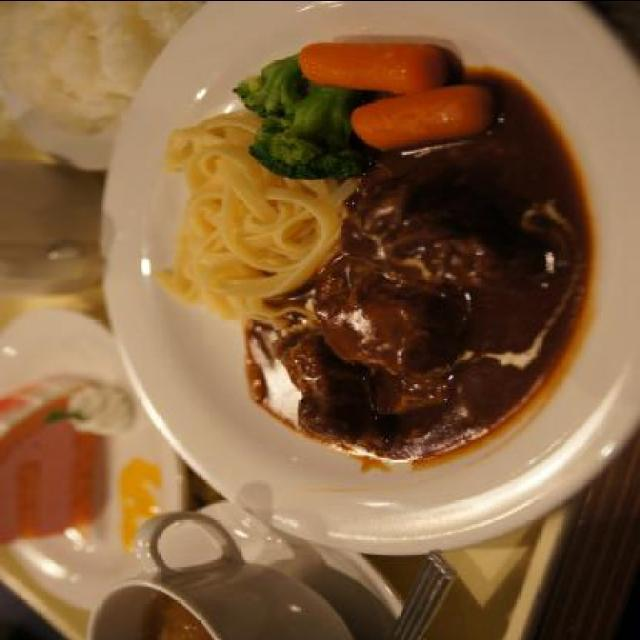Broccoli: (248, 88, 370, 178), (228, 52, 310, 116)
